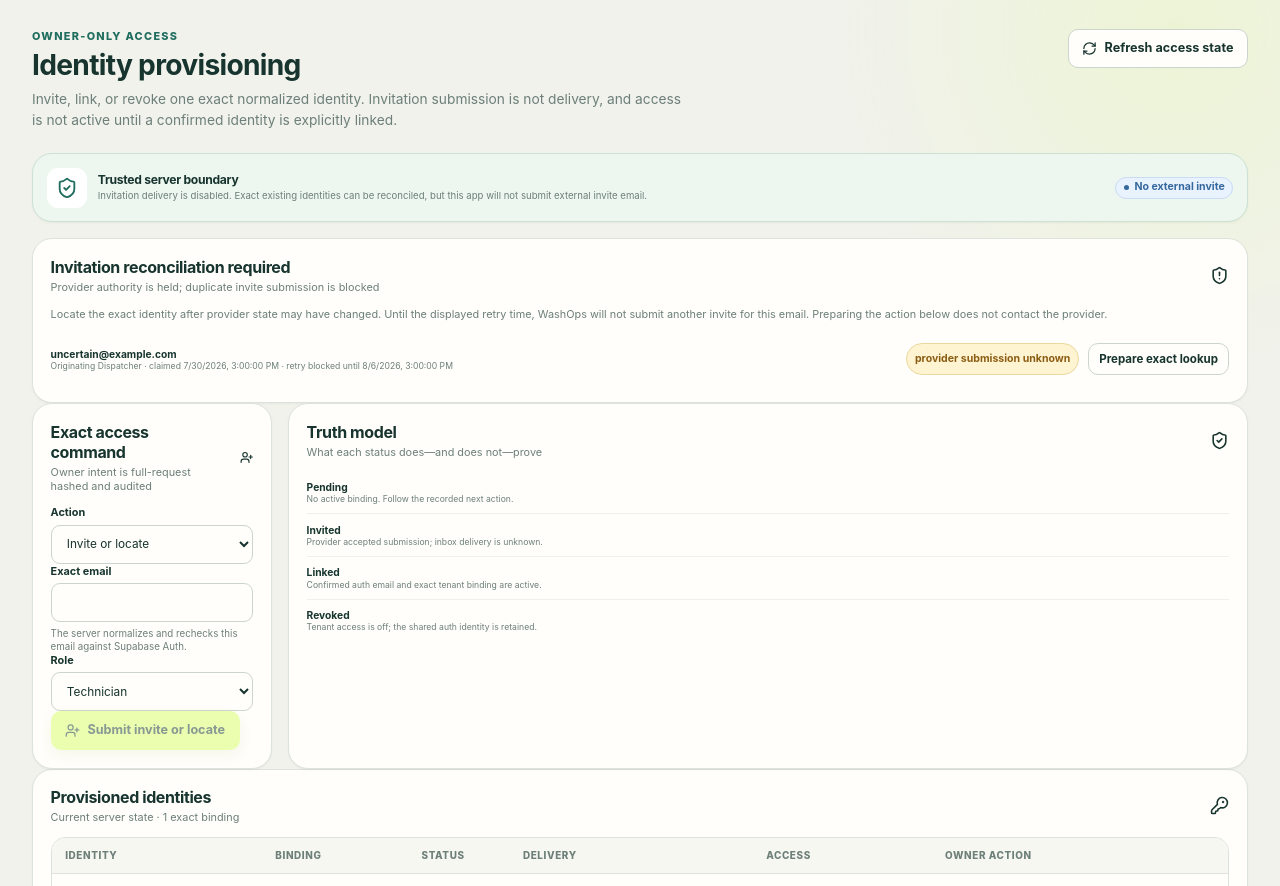
Test: owner identity provisioning panel › surfaces unresolved provider authority without resending and prepares exact lookup
Check: the element named "Unresolved invitation attempts" shows "duplicate invite submission is blocked", box [51,280,379,294]
Check: the element named "Unresolved invitation attempts" shows "provider submission unknown", box [915,352,1070,365]
Click the button "Prepare exact lookup" at (1159, 359), box [1088,343,1229,375]
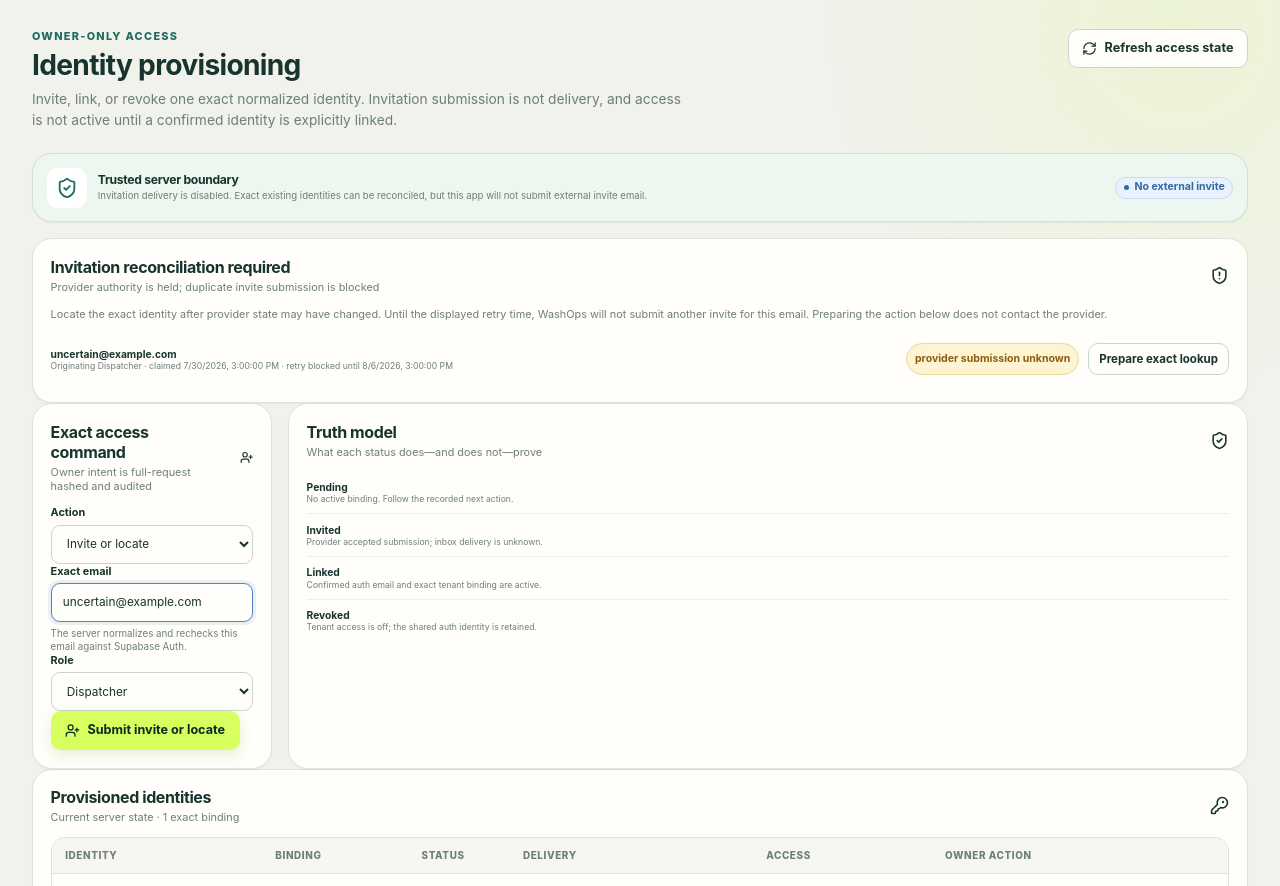
Check: the dropdown labelled "Action" shows "Invite or locate", box [51,525,253,564]
Check: the field labelled "Exact email" holds "uncertain@example.com", box [51,583,253,622]
Check: the dropdown labelled "Role" shows "Dispatcher", box [51,672,253,711]
